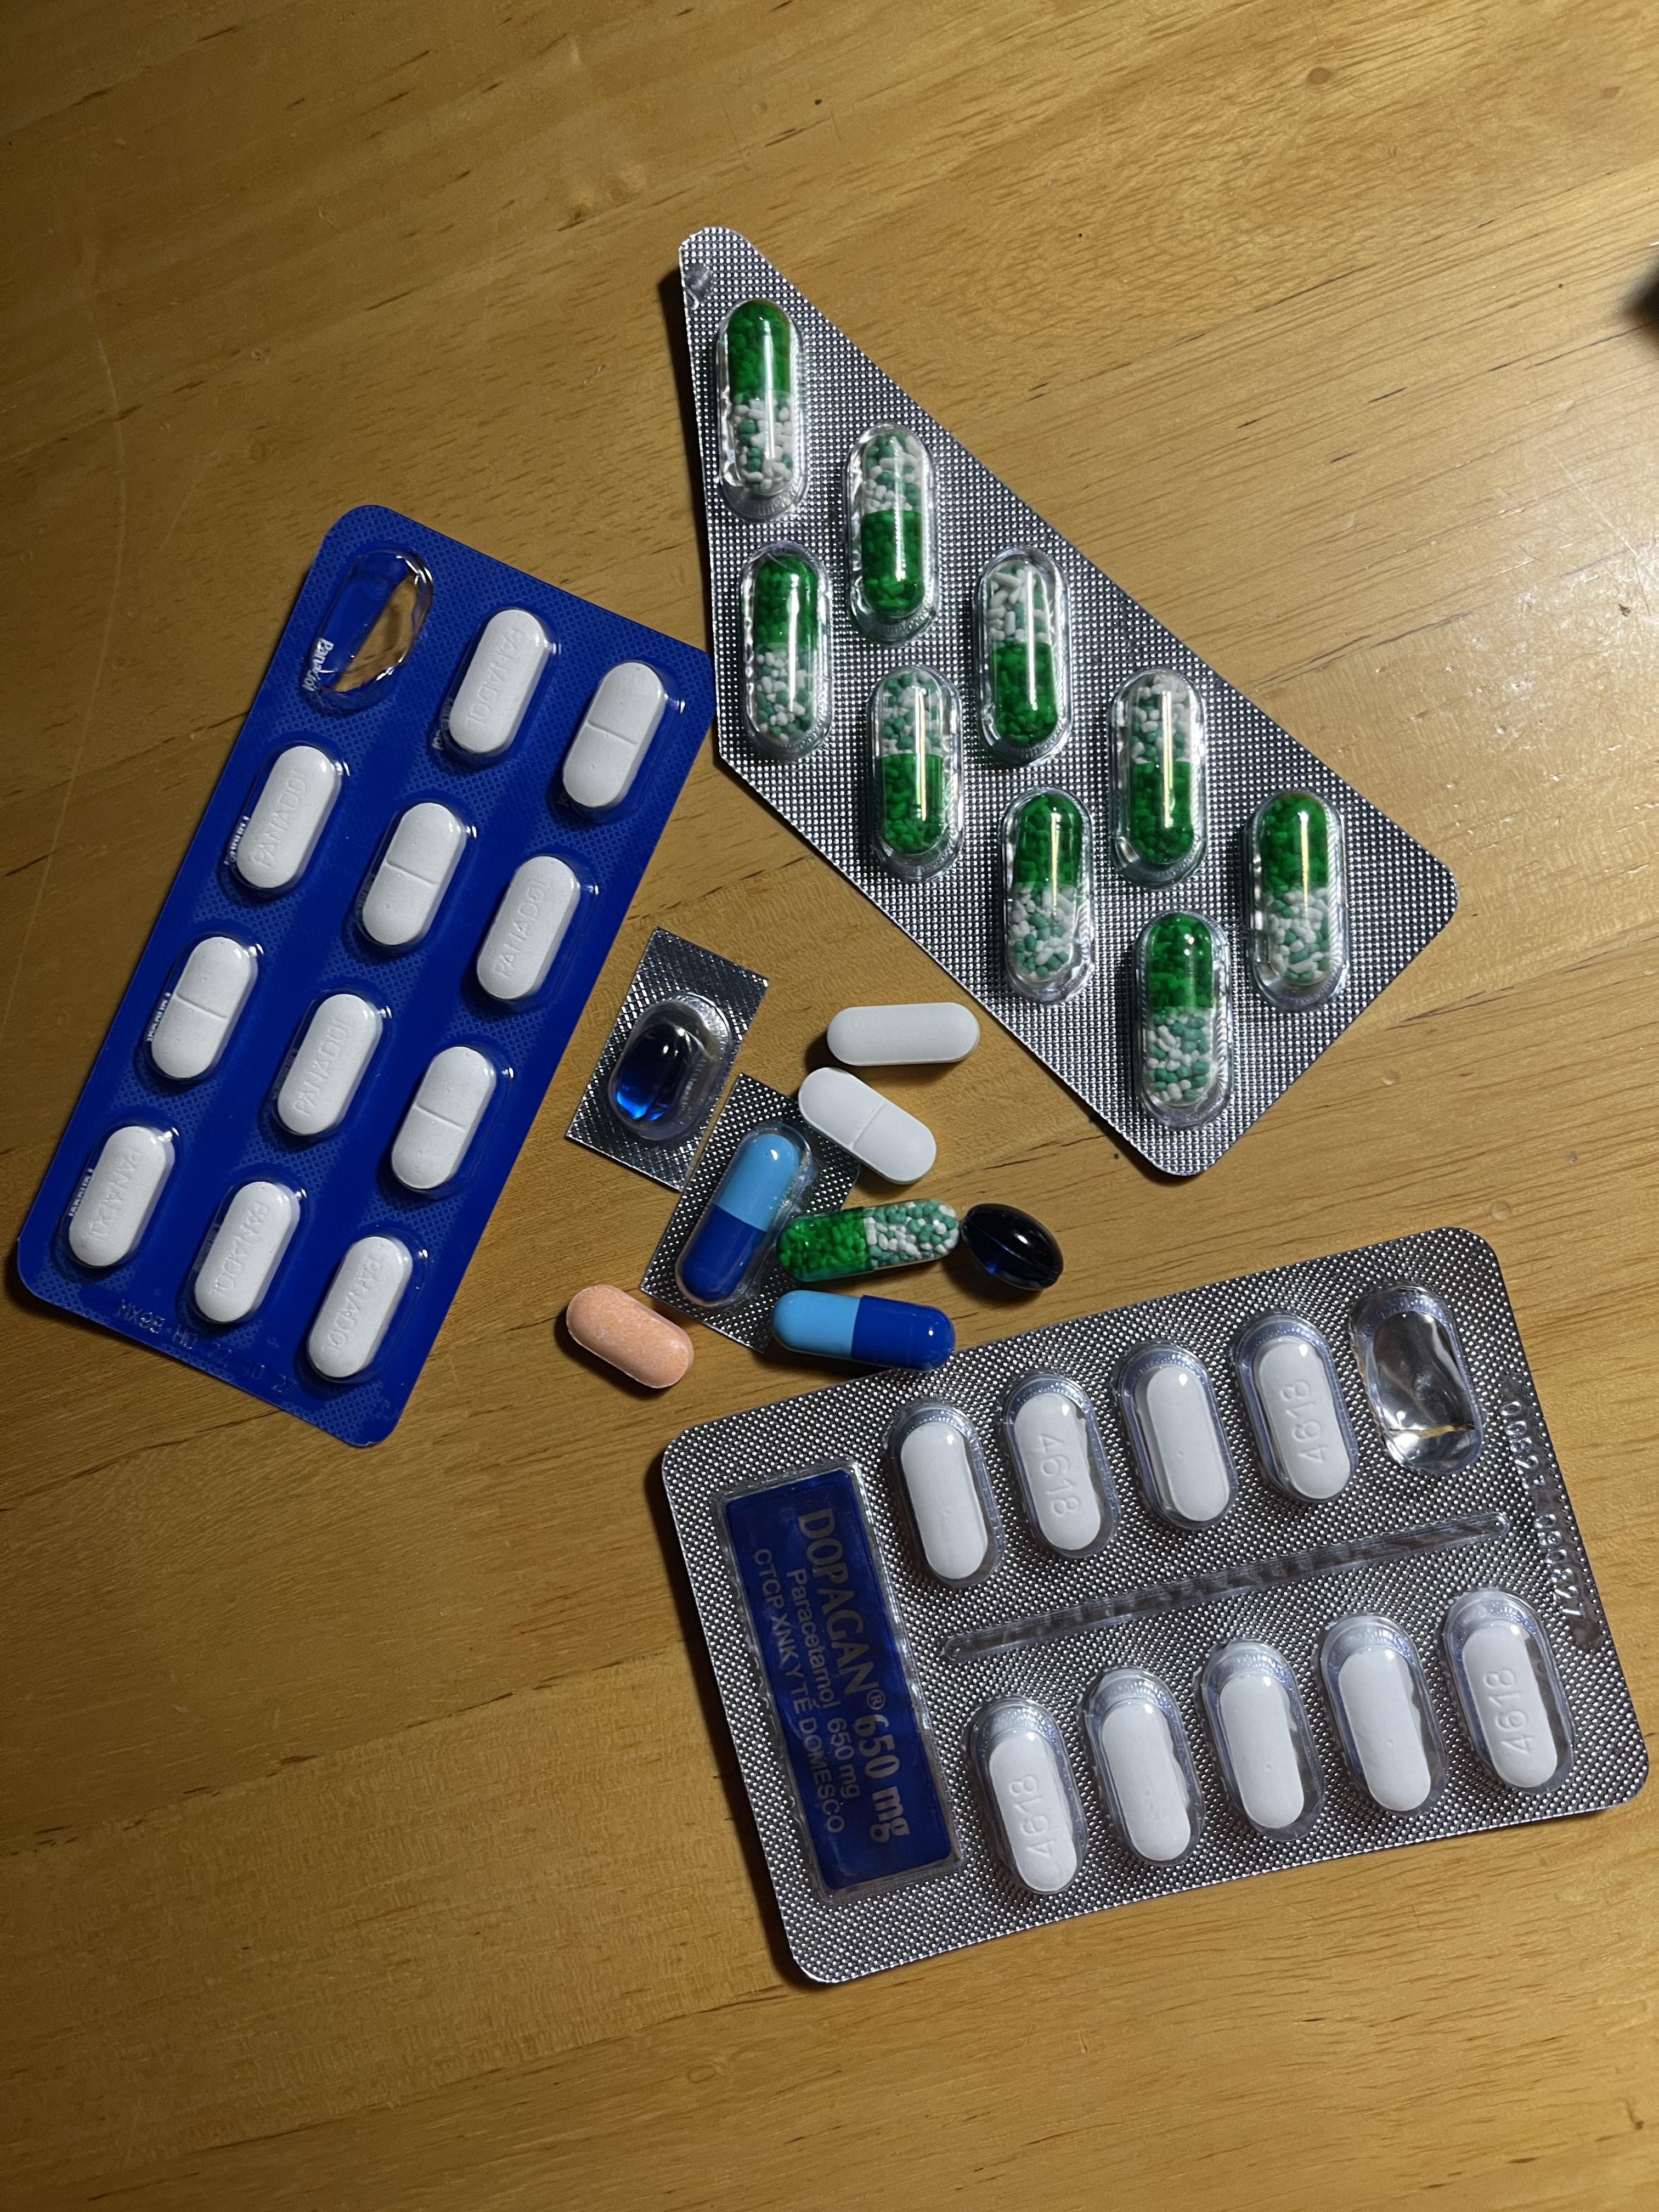Lincomyxin_500mg: (608, 1015, 704, 1125), (958, 1202, 1066, 1289)
Loratadine_10mg: (561, 1287, 699, 1388)
Paracetamol_350mg: (443, 610, 556, 768), (559, 662, 671, 819), (228, 745, 342, 897), (357, 801, 469, 954), (800, 1066, 941, 1184), (190, 1179, 301, 1329), (474, 855, 584, 1003), (274, 991, 383, 1139), (390, 1042, 497, 1193), (307, 1235, 413, 1383), (152, 935, 258, 1083), (68, 1125, 174, 1271)
Paracetamol_500mg: (1443, 1588, 1574, 1803), (1317, 1613, 1445, 1824), (1201, 1641, 1319, 1848), (1236, 1313, 1361, 1508), (967, 1693, 1086, 1897), (1096, 1689, 1192, 1865), (1138, 1360, 1229, 1526), (901, 1421, 988, 1581), (1014, 1393, 1103, 1548), (826, 1001, 979, 1064)
Paracetamol_650mg: (1251, 791, 1349, 1012), (1110, 671, 1206, 887), (972, 549, 1066, 768), (868, 669, 964, 878), (1127, 914, 1223, 1123), (845, 428, 938, 643), (999, 789, 1091, 996), (714, 298, 802, 517), (739, 549, 826, 758), (779, 1200, 960, 1284)
pill: (676, 1120, 803, 1299), (775, 1296, 950, 1371)
